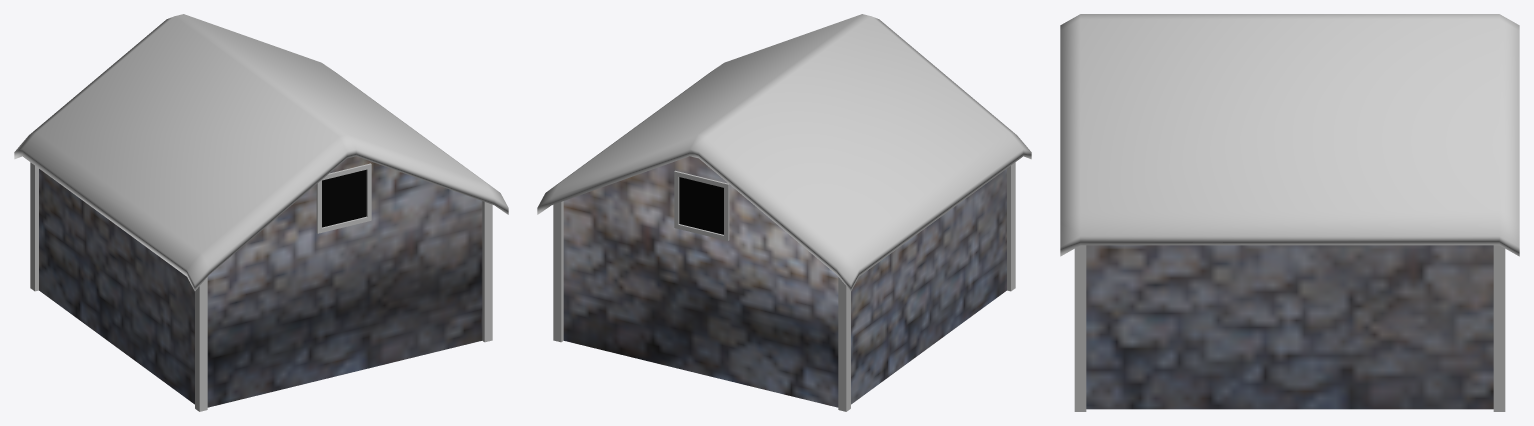
Rendered from MS_House_Small_1.fbx.
3 views of the same model, side by side, from view 1: azimuth 30°, elevation 25°; view 2: azimuth 150°, elevation 25°; view 3: azimuth 270°, elevation 25° (orthographic). The views are drawn at different scales.
Parts seen in each view (by area): view 1: Cube; view 2: Cube; view 3: Cube.
Part boxes in pixels (<box>): Cube: <box>14,14,508,411</box>; Cube: <box>537,14,1031,411</box>; Cube: <box>1060,14,1519,411</box>.
Bounding box in the file's own units: 550 × 400 × 548.
